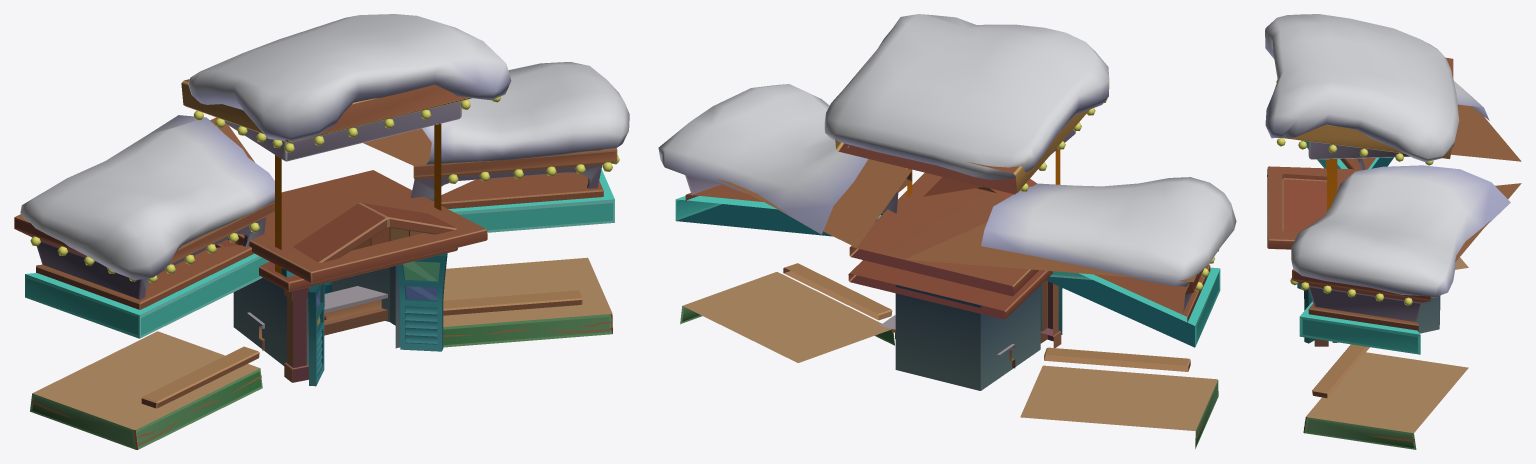
File: DisneyStore.fbx
3 views of the same model, side by side, from view 1: azimuth 30°, elevation 25°; view 2: azimuth 150°, elevation 25°; view 3: azimuth 270°, elevation 25° (orthographic). The views are drawn at different scales.
Parts seen in each view (by area): view 1: DisneyStore; view 2: DisneyStore; view 3: DisneyStore.
Part boxes in pixels (x1,y1,x2,y2): DisneyStore: (14, 14, 629, 449); DisneyStore: (658, 14, 1236, 448); DisneyStore: (1265, 14, 1521, 449).
Bounding box in the file's own units: 1104 × 624 × 500.
